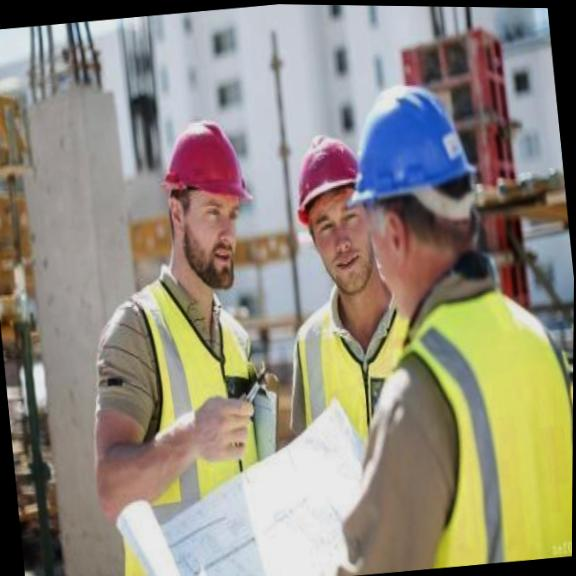safety_vest: (393, 294, 574, 572), (126, 268, 274, 499), (299, 303, 426, 453)
